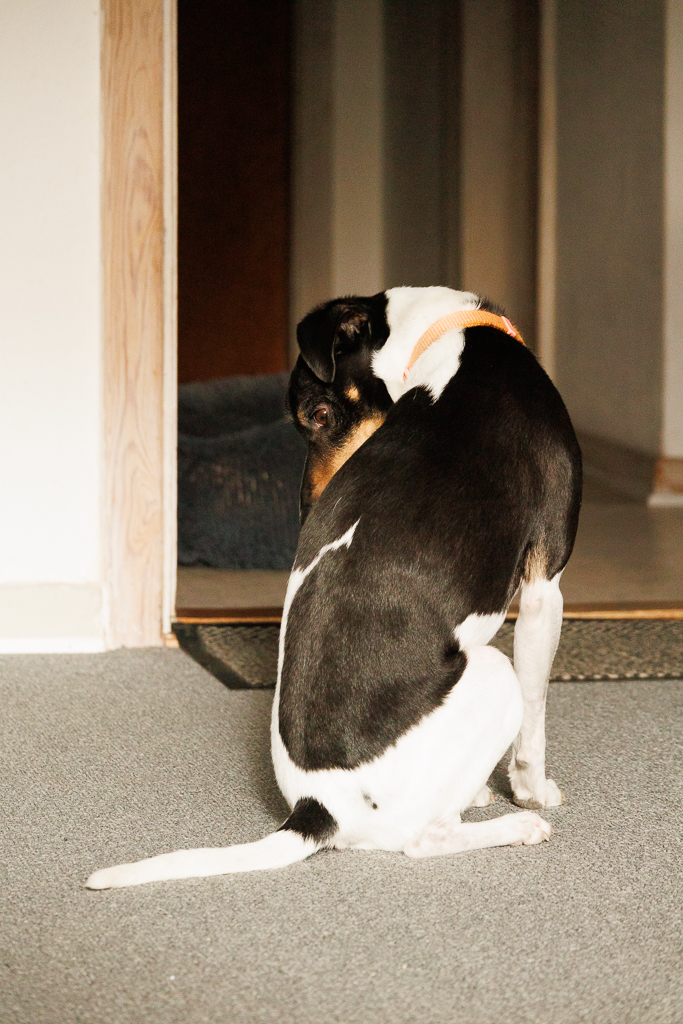Dog: (72, 277, 590, 907)
